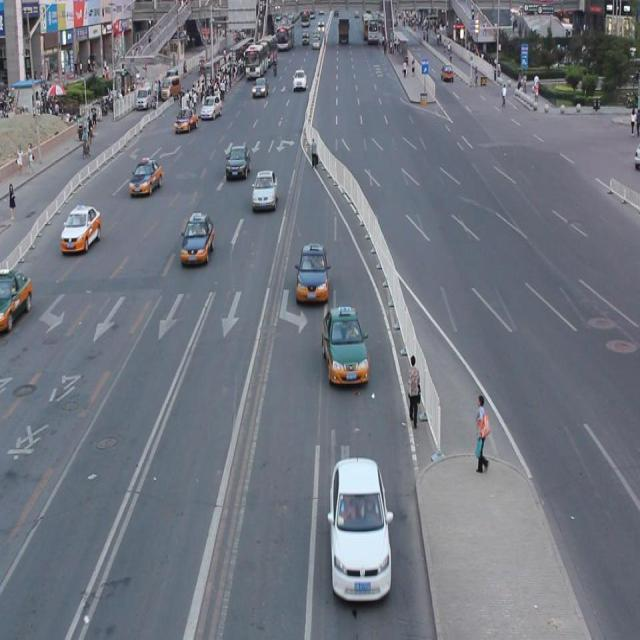car: (328, 454, 391, 600), (320, 304, 368, 386), (60, 203, 102, 254), (294, 242, 329, 303), (1, 267, 33, 330), (180, 211, 214, 264), (129, 158, 164, 196), (250, 168, 279, 210), (224, 143, 250, 181)
